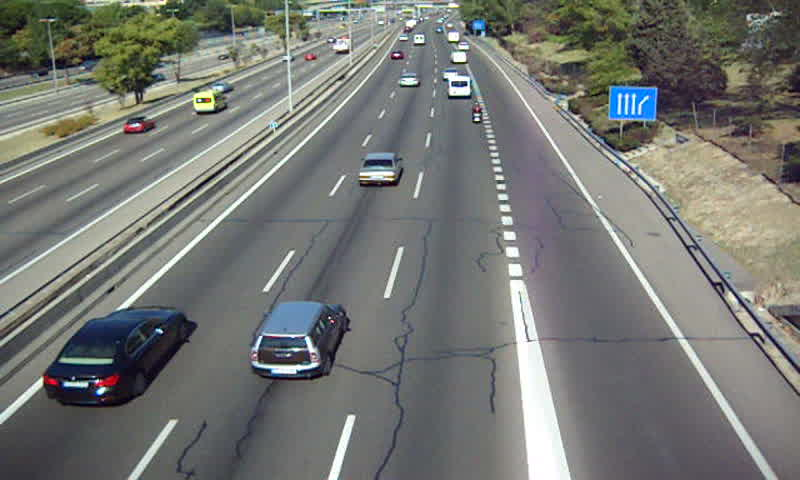car: (42, 308, 185, 407), (249, 301, 344, 378), (360, 151, 401, 184), (398, 72, 419, 88), (442, 67, 458, 81)
motorcycle: (472, 102, 484, 123)
van: (448, 74, 471, 97), (451, 52, 468, 64)
